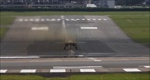maybay_muctieu: (54, 34, 84, 50)
